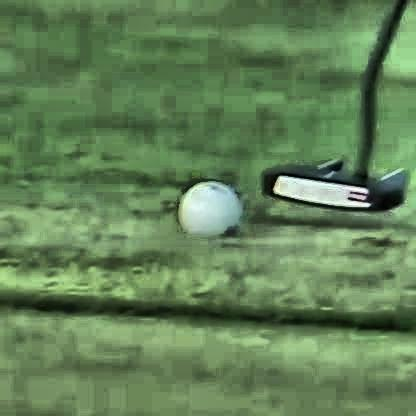golfball: (175, 181, 238, 238)
